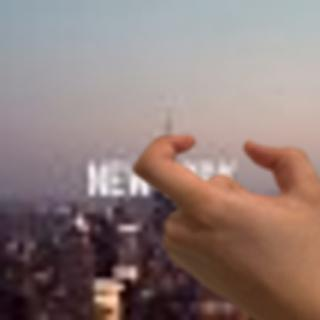HATE: (122, 127, 320, 320)
